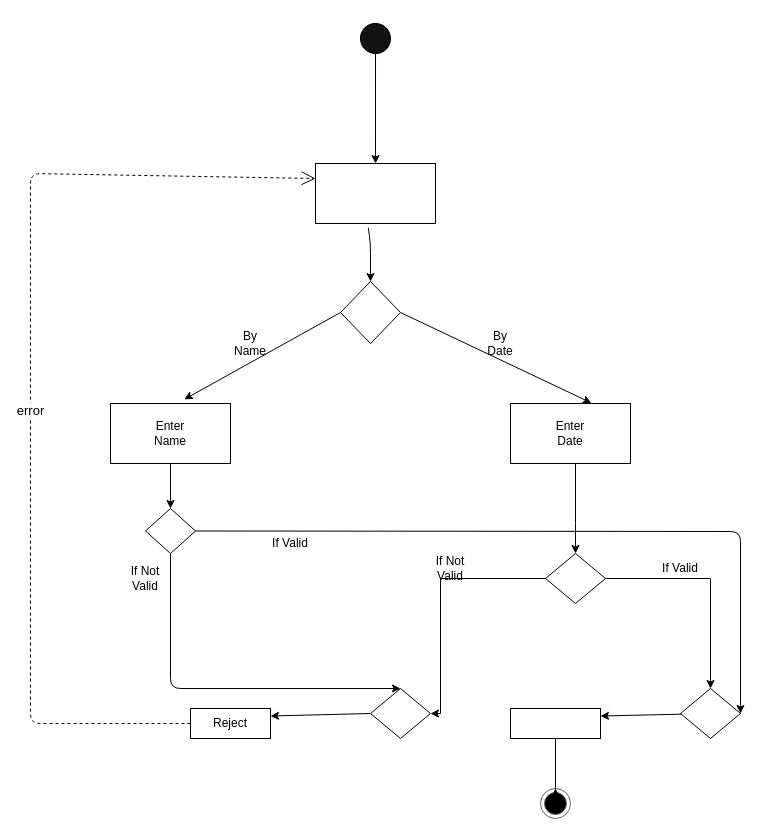
Image size: 766x837. Some labels were removed from this diagram. The box of each missing label's shape, as (x1, y1, x2, y2) in pixels:
Getting Result: (510, 708, 600, 738)
Search Page: (314, 162, 436, 224)
